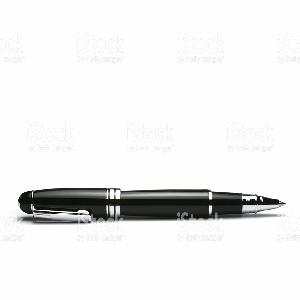pen: (15, 185, 290, 229)
